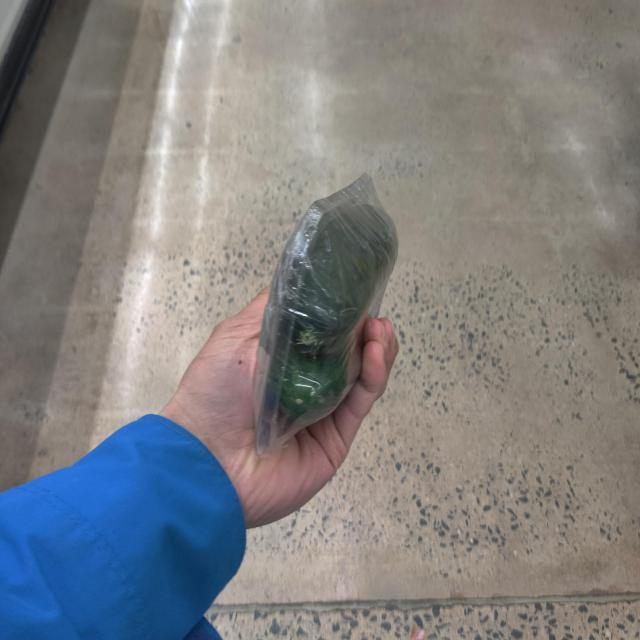Cucumber: (246, 162, 420, 464)
